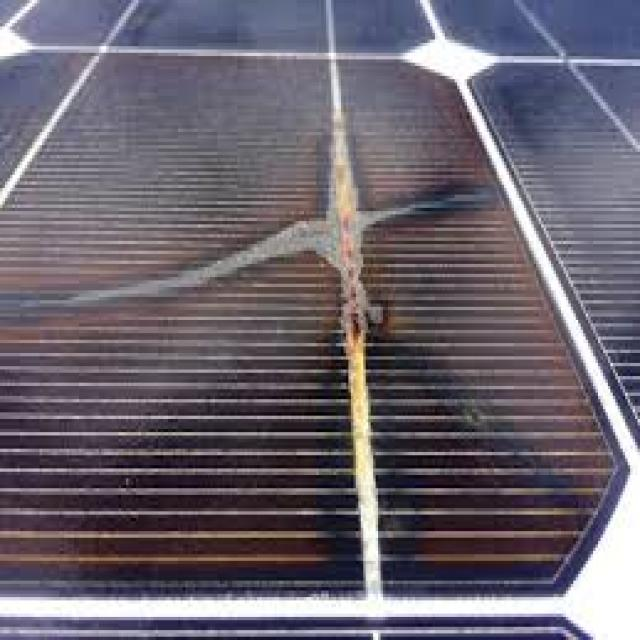faulty: (12, 16, 640, 627)
